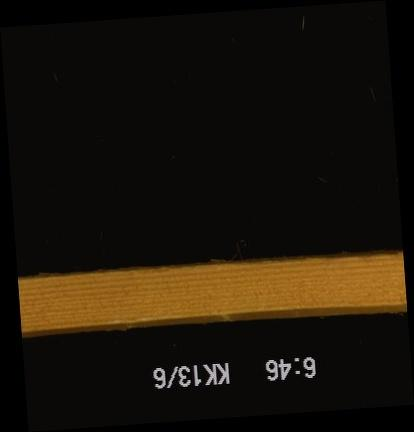wave: (17, 253, 402, 281)
